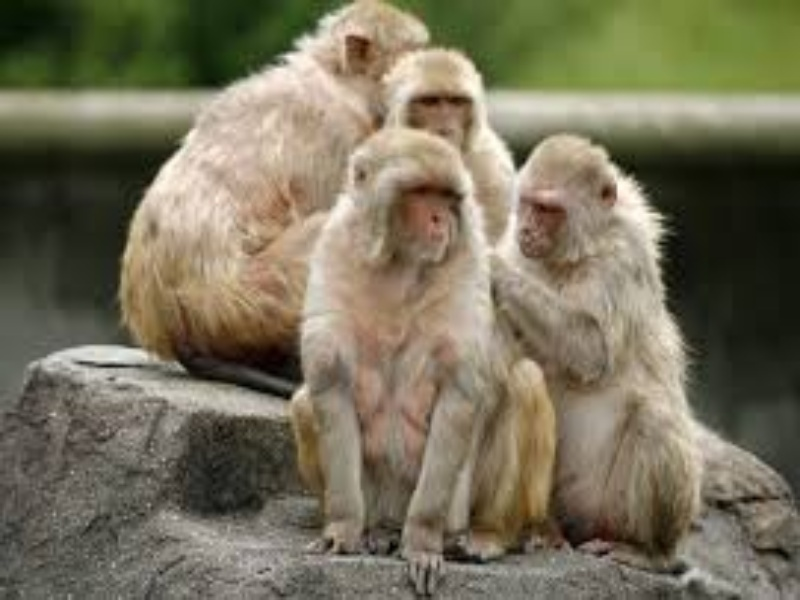monkey: (119, 3, 720, 591)
